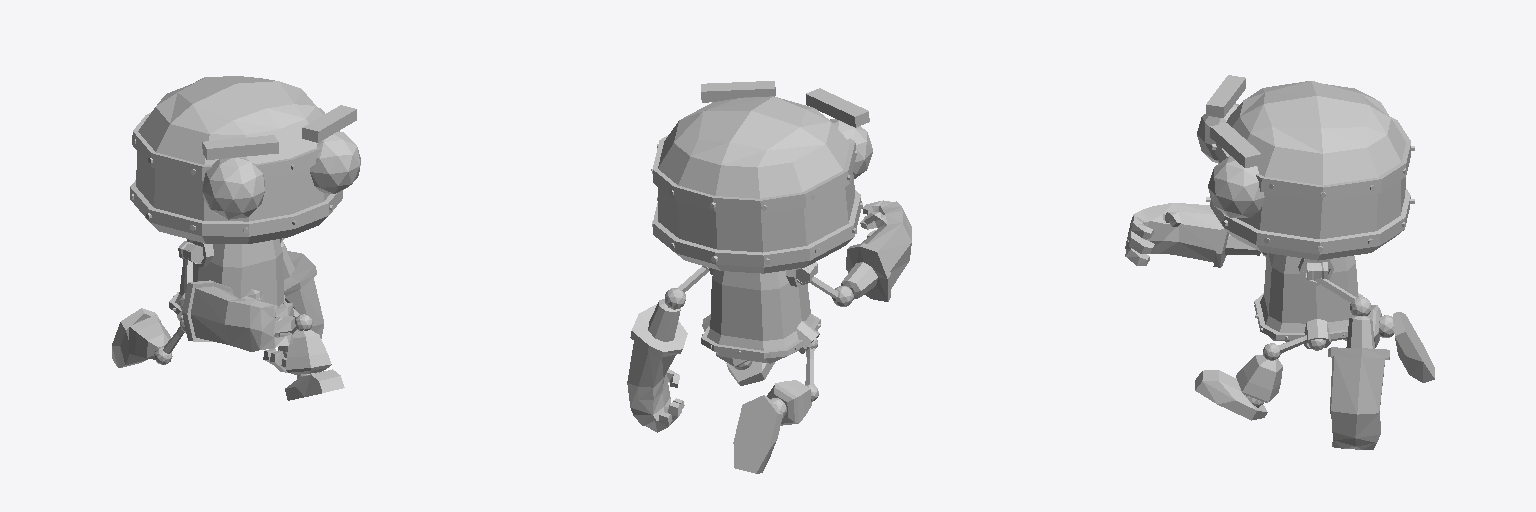
The model's file is Robot_000004.obj.
3 renders of one model, left to right at view 1: azimuth 30°, elevation 25°; view 2: azimuth 150°, elevation 25°; view 3: azimuth 270°, elevation 25°, orthographic.
Visible parts, largest first — view 1: Head_Cylinder, Hand.R_Cylinder.015, Torso_Cube.001, Hand.L_Cylinder.022, LowerLeg.L_Cylinder.012, LowerLeg.R_Cylinder.018, Foot.L_Cylinder.014, Foot.R_Cylinder.017; view 2: Head_Cylinder, Torso_Cube.001, Hand.L_Cylinder.022, Hand.R_Cylinder.015, Foot.R_Cylinder.017, LowerLeg.R_Cylinder.018, Foot.L_Cylinder.014, Arm.L_Cylinder.010, Arm.R_Cylinder.013; view 3: Head_Cylinder, Torso_Cube.001, Hand.L_Cylinder.022, Hand.R_Cylinder.015, Foot.L_Cylinder.014, LowerLeg.L_Cylinder.012, Foot.R_Cylinder.017, Arm.L_Cylinder.010, LowerLeg.R_Cylinder.018.
Part boxes in pixels (bbox=[...]): Head_Cylinder: bbox=[130, 76, 360, 243]; Hand.R_Cylinder.015: bbox=[182, 280, 295, 351]; Torso_Cube.001: bbox=[169, 239, 293, 332]; Hand.L_Cylinder.022: bbox=[263, 241, 323, 372]; LowerLeg.L_Cylinder.012: bbox=[286, 330, 331, 378]; LowerLeg.R_Cylinder.018: bbox=[128, 315, 170, 359]; Foot.L_Cylinder.014: bbox=[285, 369, 344, 400]; Foot.R_Cylinder.017: bbox=[112, 308, 160, 367]; Head_Cylinder: bbox=[651, 81, 872, 273]; Torso_Cube.001: bbox=[701, 268, 820, 363]; Hand.L_Cylinder.022: bbox=[627, 299, 687, 432]; Hand.R_Cylinder.015: bbox=[841, 200, 911, 301]; Foot.R_Cylinder.017: bbox=[733, 395, 782, 473]; LowerLeg.R_Cylinder.018: bbox=[767, 380, 811, 425]; Foot.L_Cylinder.014: bbox=[726, 361, 774, 385]; Arm.L_Cylinder.010: bbox=[665, 267, 708, 309]; Arm.R_Cylinder.013: bbox=[810, 277, 853, 306]; Head_Cylinder: bbox=[1197, 75, 1414, 260]; Torso_Cube.001: bbox=[1254, 253, 1362, 350]; Hand.L_Cylinder.022: bbox=[1328, 316, 1389, 449]; Hand.R_Cylinder.015: bbox=[1125, 203, 1260, 267]; Foot.L_Cylinder.014: bbox=[1195, 370, 1267, 420]; LowerLeg.L_Cylinder.012: bbox=[1236, 355, 1282, 407]; Foot.R_Cylinder.017: bbox=[1393, 312, 1434, 382]; Arm.L_Cylinder.010: bbox=[1314, 278, 1371, 315]; LowerLeg.R_Cylinder.018: bbox=[1343, 305, 1393, 347].
Size of the model in its own units: 2.76 by 4.26 by 3.76.